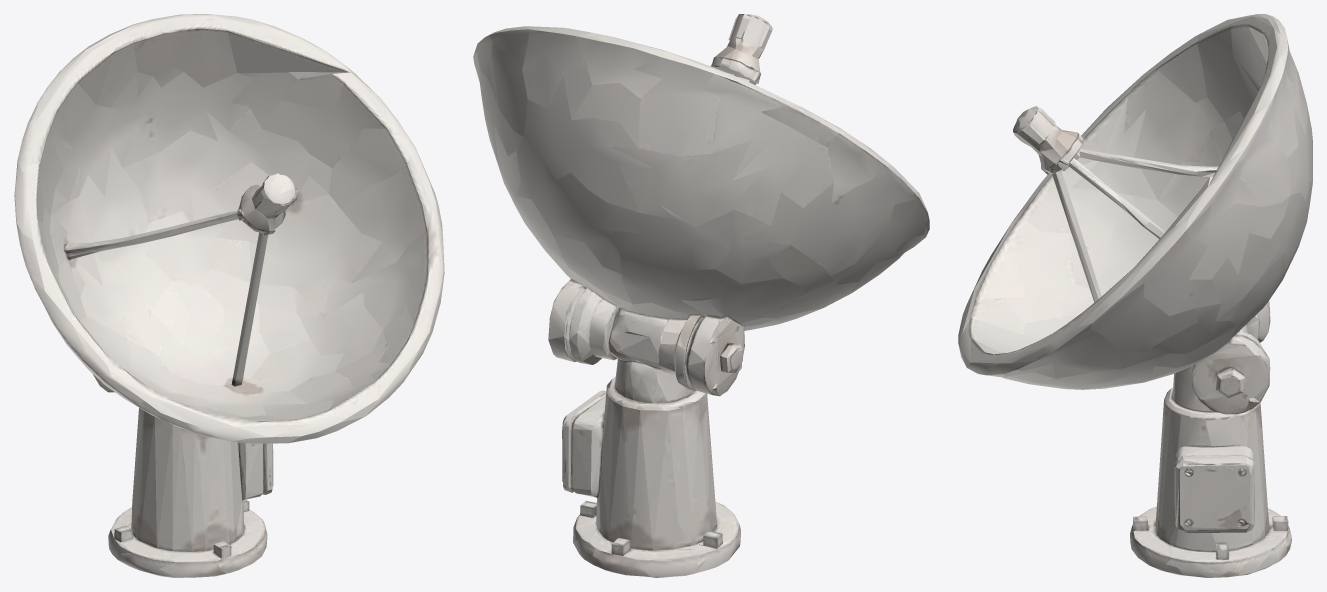
The model's file is dish.glb.
3 views of the same model, side by side, from view 1: azimuth 30°, elevation 25°; view 2: azimuth 150°, elevation 25°; view 3: azimuth 270°, elevation 25° (orthographic). The views are drawn at different scales.
Size of the model in its own units: 1.59 by 1.9 by 1.21.
1 material, 1 textured.
